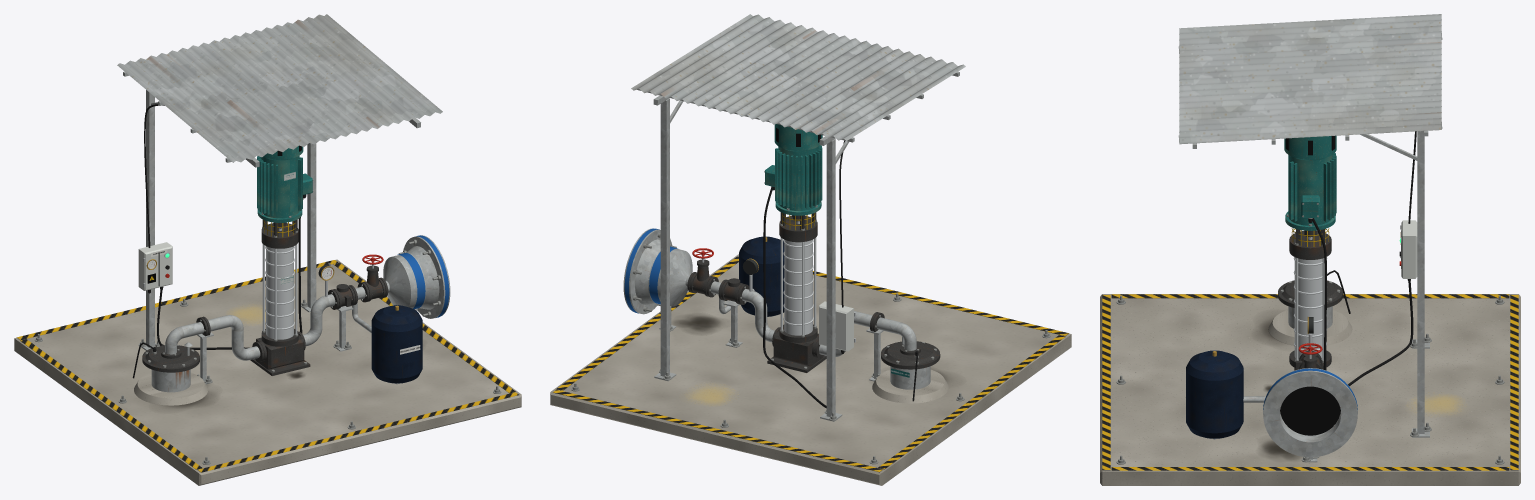
The model's file is WaterPump.glb.
3 renders of one model, left to right at view 1: azimuth 30°, elevation 25°; view 2: azimuth 150°, elevation 25°; view 3: azimuth 270°, elevation 25°, orthographic. The views are drawn at different scales.
Visible parts, largest first — view 1: WP_Pad_Concrete, WP_Roof_Roof, WP_Pad_Hazard, WP_Piping_Galv, WP_Roof_Galv, WP_Piping_Vessel, WP_Motor_Teal, WP_Pump_Stainless, WP_Pump_Iron, WP_PortOut_Galv, WP_Piping_Iron, WP_Wellhead_Concrete (+6 smaller); view 2: WP_Pad_Concrete, WP_Roof_Roof, WP_Roof_Galv, WP_Pad_Hazard, WP_Motor_Teal, WP_Piping_Galv, WP_Pump_Stainless, WP_Pump_Iron, WP_Piping_Vessel, WP_PortOut_Galv, WP_Piping_Iron, WP_Wellhead_Concrete (+7 smaller); view 3: WP_Pad_Concrete, WP_Roof_Roof, WP_Pad_Hazard, WP_Piping_Vessel, WP_PortOut_Galv, WP_Motor_Teal, WP_Roof_Galv, WP_Pump_Stainless, WP_PortOut_Bore, WP_Wellhead_Concrete, WP_Pump_Iron, WP_Controls_Cable (+4 smaller).
Part boxes in pixels (left/top/right/bottom): WP_Pad_Concrete: left=14, top=259, right=521, bottom=485; WP_Roof_Roof: left=117, top=14, right=442, bottom=162; WP_Pad_Hazard: left=17, top=260, right=518, bottom=472; WP_Piping_Galv: left=165, top=257, right=417, bottom=384; WP_Roof_Galv: left=123, top=71, right=420, bottom=350; WP_Piping_Vessel: left=371, top=305, right=422, bottom=383; WP_Motor_Teal: left=257, top=146, right=312, bottom=222; WP_Pump_Stainless: left=262, top=244, right=297, bottom=339; WP_Pump_Iron: left=250, top=219, right=310, bottom=375; WP_PortOut_Galv: left=391, top=235, right=450, bottom=318; WP_Piping_Iron: left=196, top=265, right=388, bottom=361; WP_Wellhead_Concrete: left=134, top=372, right=208, bottom=405; WP_Pad_Concrete: left=550, top=254, right=1071, bottom=485; WP_Roof_Roof: left=631, top=14, right=965, bottom=140; WP_Roof_Galv: left=637, top=71, right=959, bottom=421; WP_Pad_Hazard: left=553, top=256, right=1068, bottom=472; WP_Motor_Teal: left=765, top=124, right=822, bottom=215; WP_Piping_Galv: left=657, top=250, right=916, bottom=381; WP_Pump_Stainless: left=780, top=237, right=816, bottom=335; WP_Pump_Iron: left=767, top=212, right=826, bottom=372; WP_Piping_Vessel: left=739, top=236, right=784, bottom=316; WP_PortOut_Galv: left=623, top=228, right=683, bottom=314; WP_Piping_Iron: left=687, top=259, right=884, bottom=358; WP_Wellhead_Concrete: left=872, top=369, right=948, bottom=403; WP_Pad_Concrete: left=1100, top=294, right=1520, bottom=485; WP_Roof_Roof: left=1179, top=14, right=1441, bottom=144; WP_Pad_Hazard: left=1102, top=294, right=1518, bottom=470; WP_Piping_Vessel: left=1186, top=350, right=1243, bottom=438; WP_PortOut_Galv: left=1263, top=368, right=1357, bottom=457; WP_Motor_Teal: left=1284, top=135, right=1336, bottom=230; WP_Roof_Galv: left=1178, top=33, right=1442, bottom=437; WP_Pump_Stainless: left=1293, top=257, right=1327, bottom=360; WP_PortOut_Bore: left=1280, top=386, right=1340, bottom=435; WP_Wellhead_Concrete: left=1268, top=310, right=1352, bottom=345; WP_Pump_Iron: left=1289, top=229, right=1331, bottom=370; WP_Controls_Cable: left=1312, top=131, right=1416, bottom=386.
Size of what is drawn, in the model's own units: 8 by 6.99 by 8.
33 materials, 19 textured.
